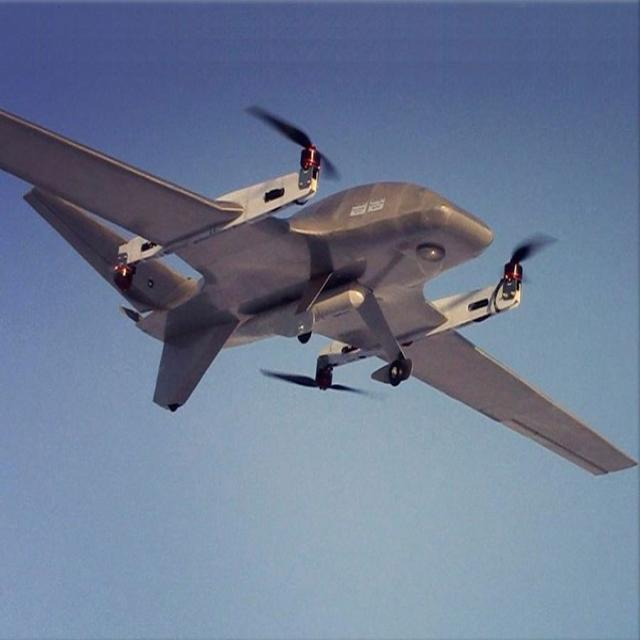iha: (1, 37, 638, 507)
